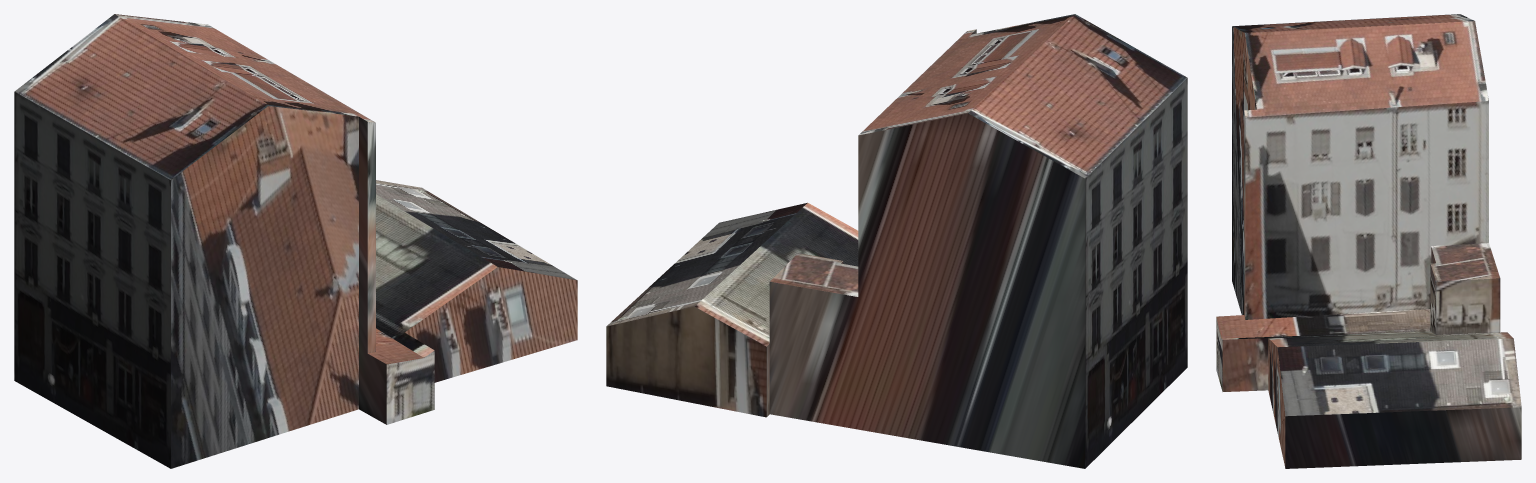
3 renders of one model, left to right at view 1: azimuth 30°, elevation 25°; view 2: azimuth 150°, elevation 25°; view 3: azimuth 270°, elevation 25°, orthographic. The views are drawn at different scales.
Parts seen in each view (by area): view 1: Z_UP; view 2: Z_UP; view 3: Z_UP.
Boxes of the visible parts, x1=… form: Z_UP: x1=14, y1=14, x2=577, y2=468; Z_UP: x1=606, y1=14, x2=1187, y2=468; Z_UP: x1=1216, y1=14, x2=1521, y2=468.
Bounding box in the file's own units: 29.43 × 20.26 × 19.02.
2 materials, 1 textured.
